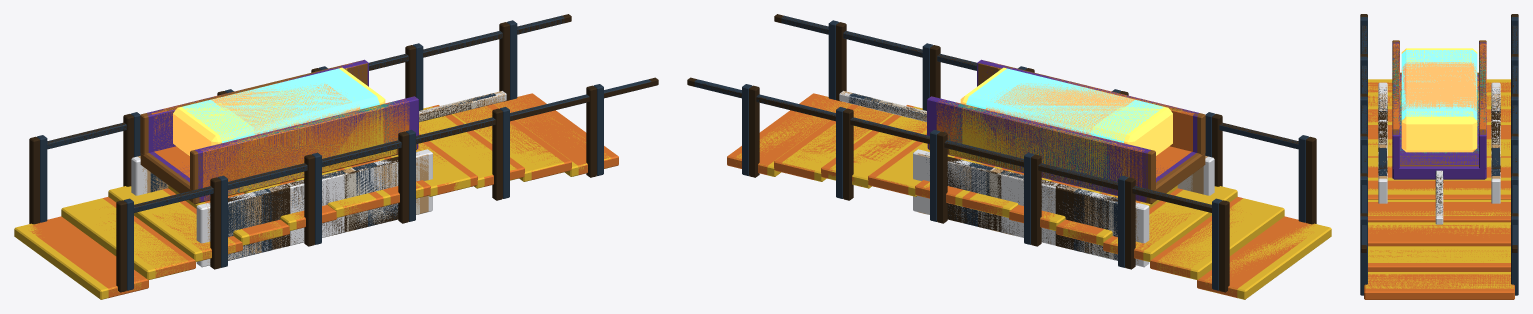
Rendered from flagship_props_010.glb.
The picture shows the model from 3 angles, left to right: view 1: azimuth 30°, elevation 25°; view 2: azimuth 150°, elevation 25°; view 3: azimuth 270°, elevation 25°; orthographic projection. The views are drawn at different scales.
Parts seen in each view (by area): view 1: Prop_BBIsle_Bridge_19, Prop_BBIsle_Bridge_18, Prop_BBIsle_Cart_01, Prop_BBIsle_Cart_00, Prop_BBIsle_Cart_02, Prop_BBIsle_Cart_05, Prop_BBIsle_Cart_16, Prop_BBIsle_Cart_09, Prop_BBIsle_Cart_14, Prop_BBIsle_Cart_12, Prop_BBIsle_Cart_07, Prop_BBIsle_Cart_11 (+6 smaller); view 2: Prop_BBIsle_Bridge_19, Prop_BBIsle_Bridge_18, Prop_BBIsle_Cart_01, Prop_BBIsle_Cart_00, Prop_BBIsle_Cart_02, Prop_BBIsle_Cart_05, Prop_BBIsle_Cart_09, Prop_BBIsle_Cart_12, Prop_BBIsle_Cart_16, Prop_BBIsle_Cart_15, Prop_BBIsle_Cart_08, Prop_BBIsle_Cart_07 (+7 smaller); view 3: Prop_BBIsle_Bridge_18, Prop_BBIsle_Bridge_19, Prop_BBIsle_Cart_05, Prop_BBIsle_Cart_02, Prop_BBIsle_Cart_00, Prop_BBIsle_Cart_01, Prop_BBIsle_Cart_12, Prop_BBIsle_Cart_09, Prop_BBIsle_Cart_16, Prop_BBIsle_Cart_15, Prop_BBIsle_Cart_11, Prop_BBIsle_Cart_14 (+4 smaller).
Part boxes in pixels (box(x1,y1,x2,y2)): Prop_BBIsle_Bridge_19: box(14, 14, 658, 299); Prop_BBIsle_Bridge_18: box(30, 15, 651, 298); Prop_BBIsle_Cart_01: box(151, 63, 496, 260); Prop_BBIsle_Cart_00: box(131, 59, 506, 267); Prop_BBIsle_Cart_02: box(190, 87, 471, 250); Prop_BBIsle_Cart_05: box(148, 66, 501, 253); Prop_BBIsle_Cart_16: box(183, 68, 397, 254); Prop_BBIsle_Cart_09: box(140, 60, 505, 246); Prop_BBIsle_Cart_14: box(138, 61, 501, 262); Prop_BBIsle_Cart_12: box(211, 84, 390, 251); Prop_BBIsle_Cart_07: box(163, 68, 484, 255); Prop_BBIsle_Cart_11: box(167, 67, 478, 259); Prop_BBIsle_Bridge_19: box(687, 14, 1331, 299); Prop_BBIsle_Bridge_18: box(694, 15, 1314, 298); Prop_BBIsle_Cart_01: box(848, 68, 1194, 260); Prop_BBIsle_Cart_00: box(839, 59, 1214, 267); Prop_BBIsle_Cart_02: box(876, 90, 1154, 257); Prop_BBIsle_Cart_05: box(844, 67, 1197, 250); Prop_BBIsle_Cart_09: box(841, 60, 1205, 259); Prop_BBIsle_Cart_12: box(893, 83, 1134, 246); Prop_BBIsle_Cart_16: box(849, 68, 1163, 260); Prop_BBIsle_Cart_15: box(866, 65, 1122, 245); Prop_BBIsle_Cart_08: box(878, 100, 1110, 230); Prop_BBIsle_Cart_07: box(860, 68, 1182, 230); Prop_BBIsle_Bridge_18: box(1360, 17, 1518, 299); Prop_BBIsle_Bridge_19: box(1360, 14, 1518, 288); Prop_BBIsle_Cart_05: box(1378, 42, 1500, 215); Prop_BBIsle_Cart_02: box(1378, 64, 1500, 203); Prop_BBIsle_Cart_00: box(1378, 42, 1500, 224); Prop_BBIsle_Cart_01: box(1378, 43, 1500, 213); Prop_BBIsle_Cart_12: box(1400, 62, 1497, 127); Prop_BBIsle_Cart_09: box(1379, 40, 1499, 217); Prop_BBIsle_Cart_16: box(1379, 44, 1500, 165); Prop_BBIsle_Cart_15: box(1378, 53, 1500, 199); Prop_BBIsle_Cart_11: box(1378, 55, 1495, 206); Prop_BBIsle_Cart_14: box(1378, 45, 1500, 215).
Bounding box in the file's own units: 5.92 × 1.15 × 1.68.
